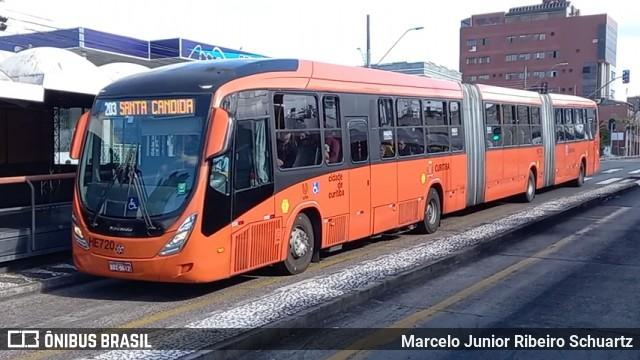SANTA CANDIDA: (118, 97, 198, 117)
